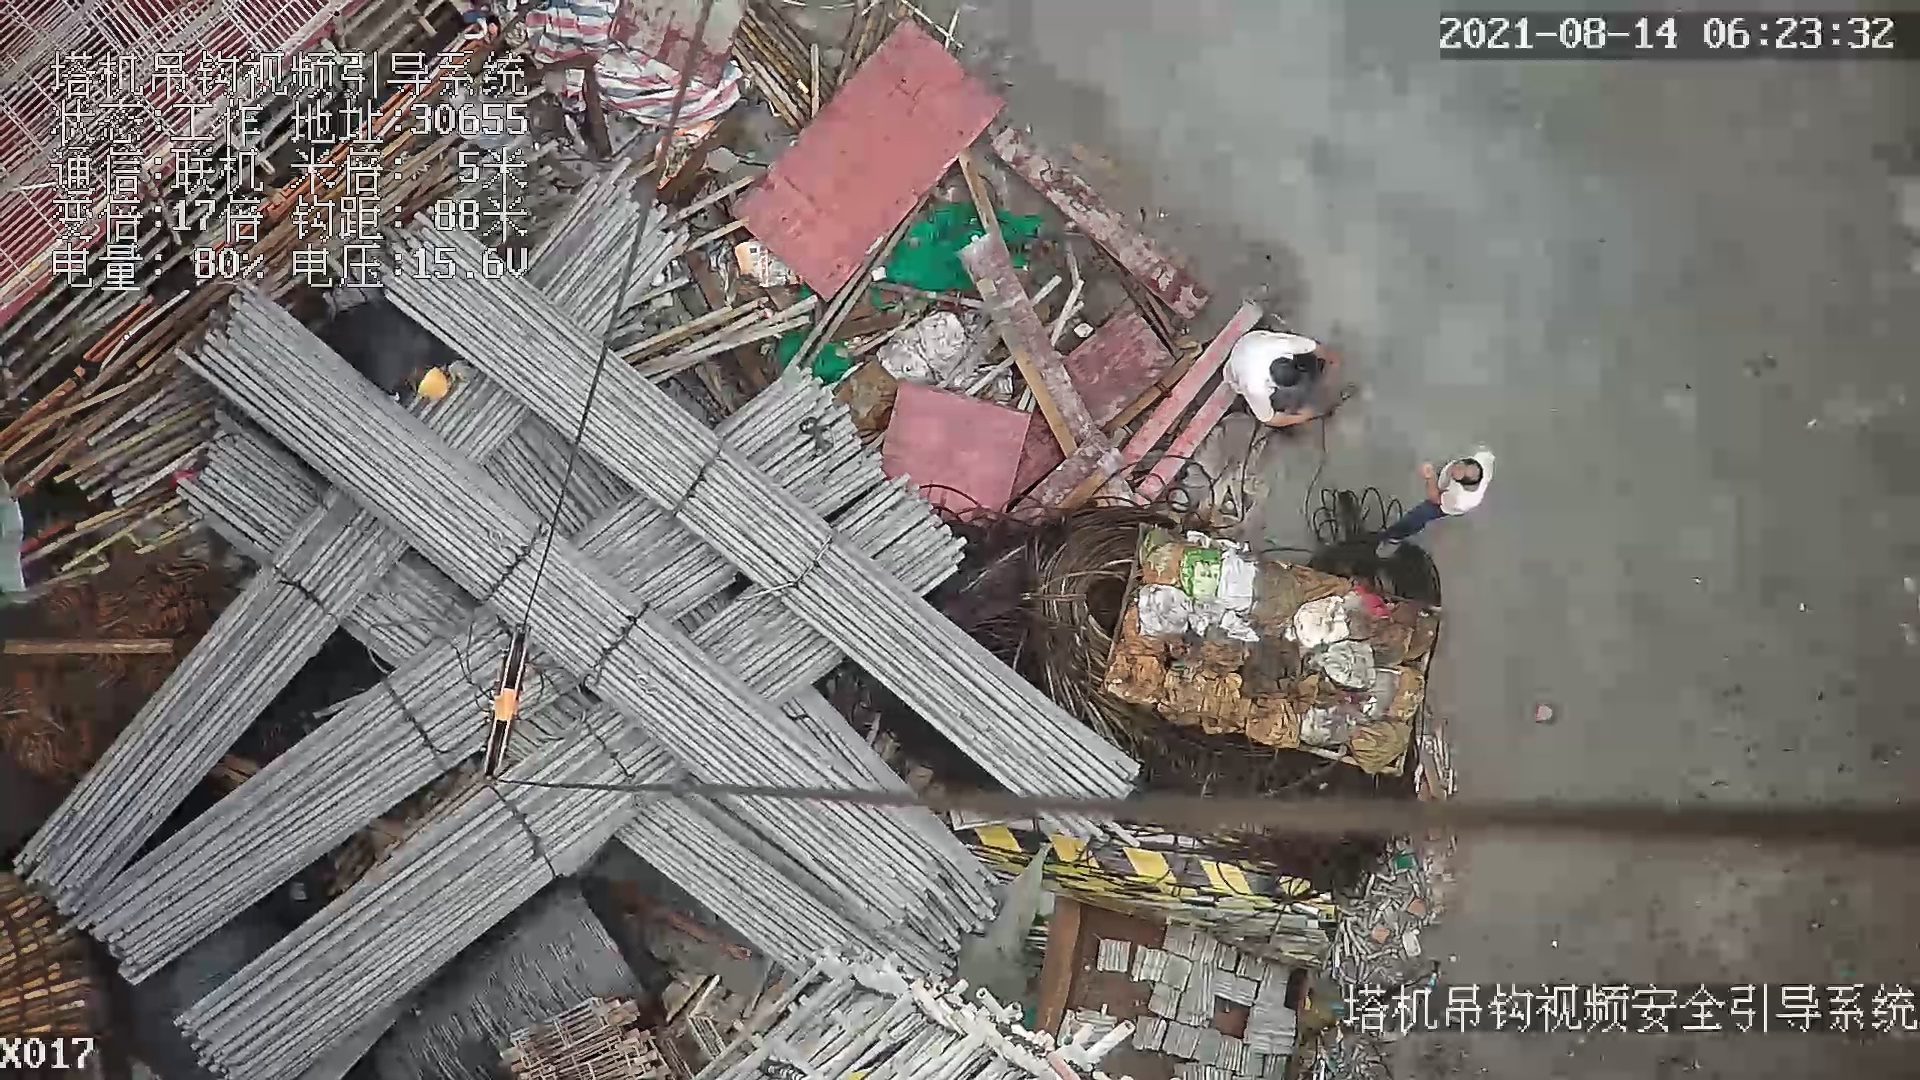helmet: (413, 370, 458, 400)
hook: (479, 624, 540, 791)
person: (1373, 435, 1495, 558), (1213, 318, 1340, 426), (390, 362, 459, 399)
rebar: (179, 288, 950, 926), (386, 288, 1148, 796), (171, 418, 850, 969), (178, 733, 644, 1073), (17, 518, 383, 916), (74, 633, 490, 981)
wood: (1, 868, 93, 1032)
